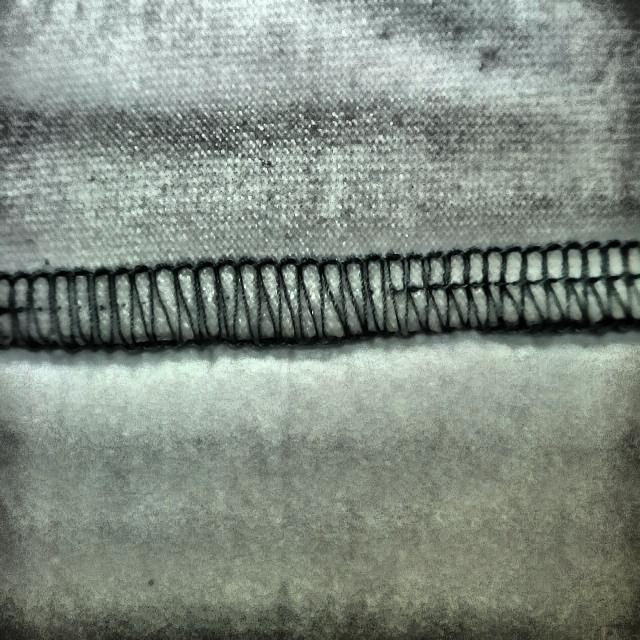Stitch: (214, 189, 629, 398)
